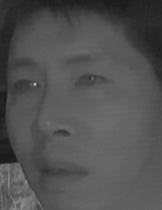eye: (7, 77, 43, 99), (75, 68, 109, 91)
mouth: (34, 154, 90, 187)
